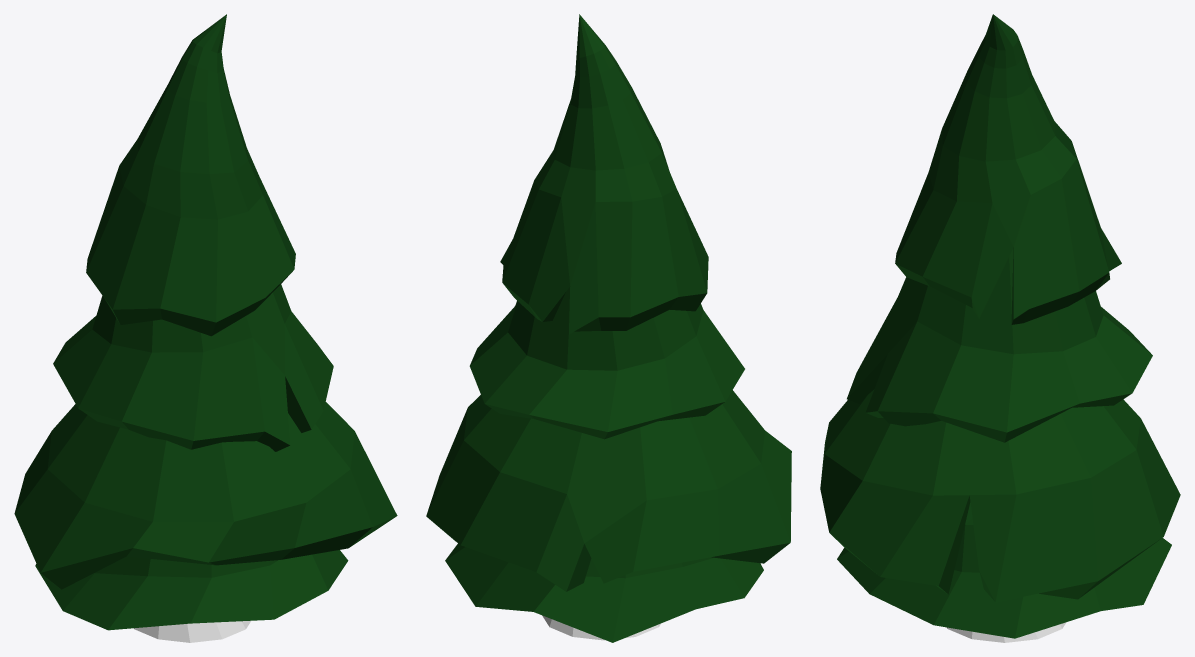
Rendered from pineTree1.fbx.
The picture shows the model from 3 angles, left to right: view 1: azimuth 30°, elevation 25°; view 2: azimuth 150°, elevation 25°; view 3: azimuth 270°, elevation 25°; orthographic projection. The views are drawn at different scales.
Parts seen in each view (by area): view 1: pinetree1.001; view 2: pinetree1.001; view 3: pinetree1.001.
Part boxes in pixels (left/top/right/bottom): pinetree1.001: left=14, top=14, right=397, bottom=642; pinetree1.001: left=426, top=14, right=791, bottom=642; pinetree1.001: left=820, top=14, right=1180, bottom=642.
Bounding box in the file's own units: 675 × 1130 × 599.
